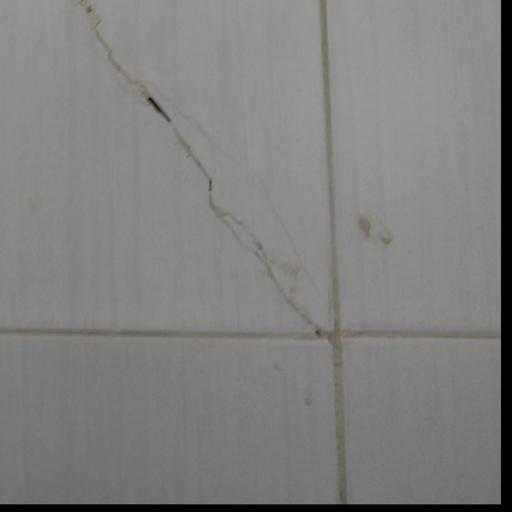minor_crack: (71, 0, 352, 368)
